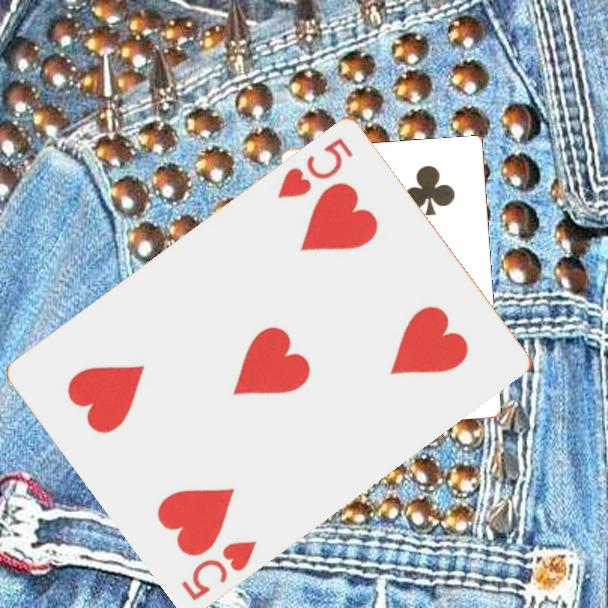h05: (177, 536, 260, 603), (274, 134, 356, 201)
